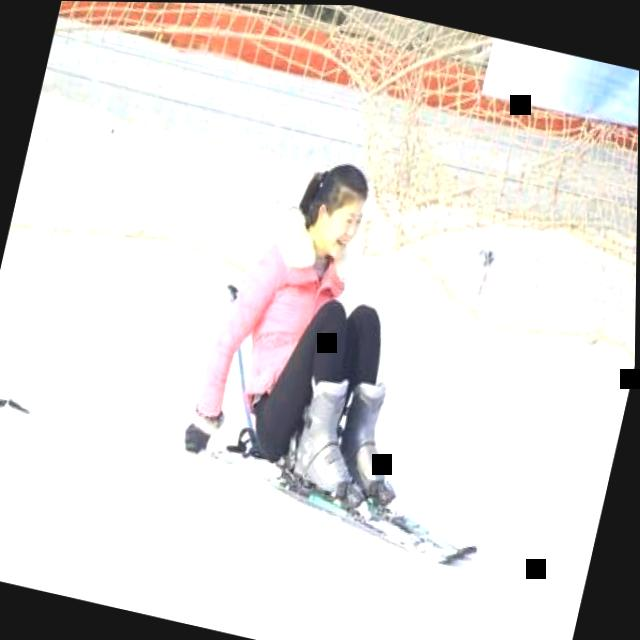Fall-Detected: (165, 122, 479, 525)
